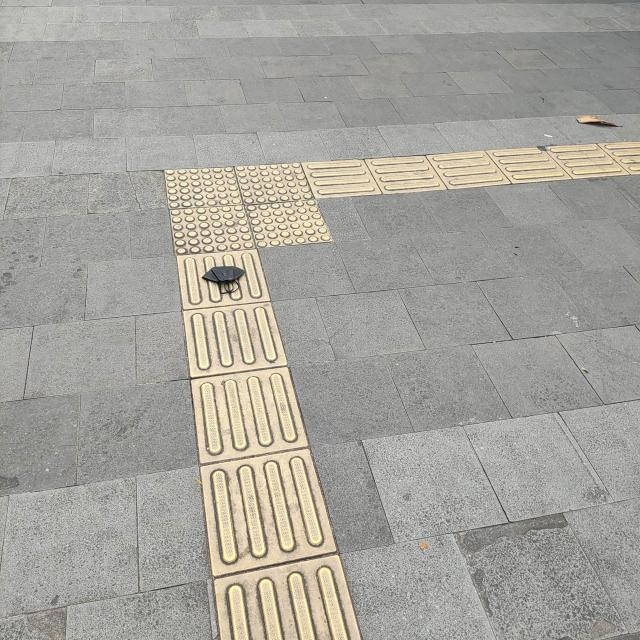kanan: (90, 96, 524, 289)
